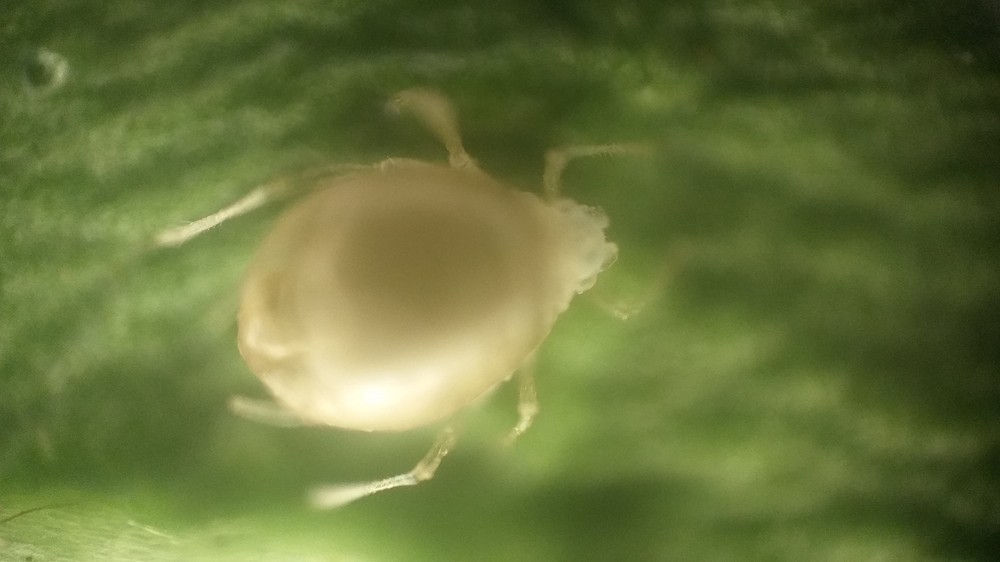Pulgon: (136, 80, 691, 527)
